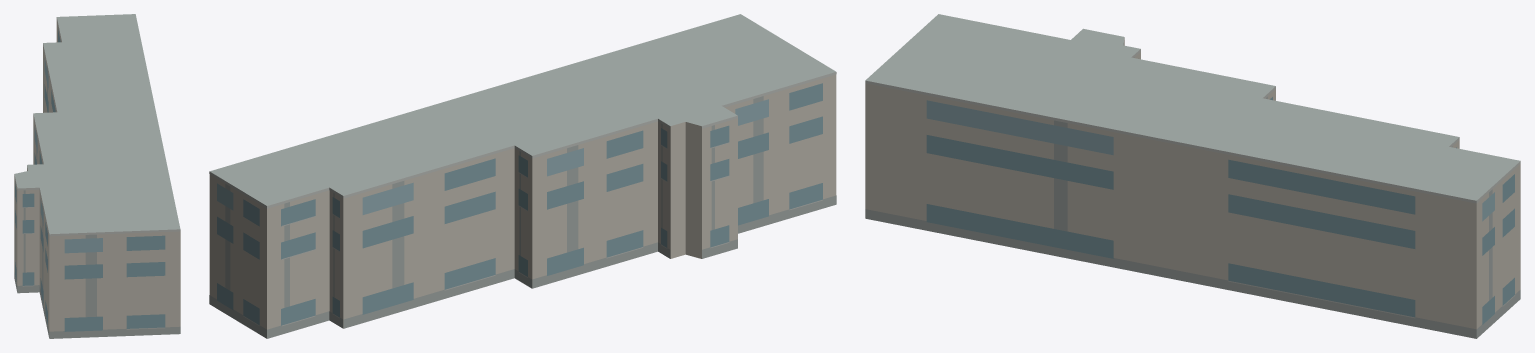
Rendered from residential-0eb81346-0b08-4901-b490-5f829967f9dd.glb.
3 views of the same model, side by side, from view 1: azimuth 30°, elevation 25°; view 2: azimuth 150°, elevation 25°; view 3: azimuth 270°, elevation 25° (orthographic). The views are drawn at different scales.
Visible parts, largest first — view 1: residential-0eb81346-0b08-4901-b490-5f829967f9dd.tmp; view 2: residential-0eb81346-0b08-4901-b490-5f829967f9dd.tmp; view 3: residential-0eb81346-0b08-4901-b490-5f829967f9dd.tmp.
Boxes of the visible parts, left/top/right/bottom form: residential-0eb81346-0b08-4901-b490-5f829967f9dd.tmp: left=14, top=14, right=180, bottom=338; residential-0eb81346-0b08-4901-b490-5f829967f9dd.tmp: left=209, top=14, right=836, bottom=338; residential-0eb81346-0b08-4901-b490-5f829967f9dd.tmp: left=865, top=14, right=1520, bottom=338.
Bounding box in the file's own units: 35.4 × 12.2 × 52.49.
